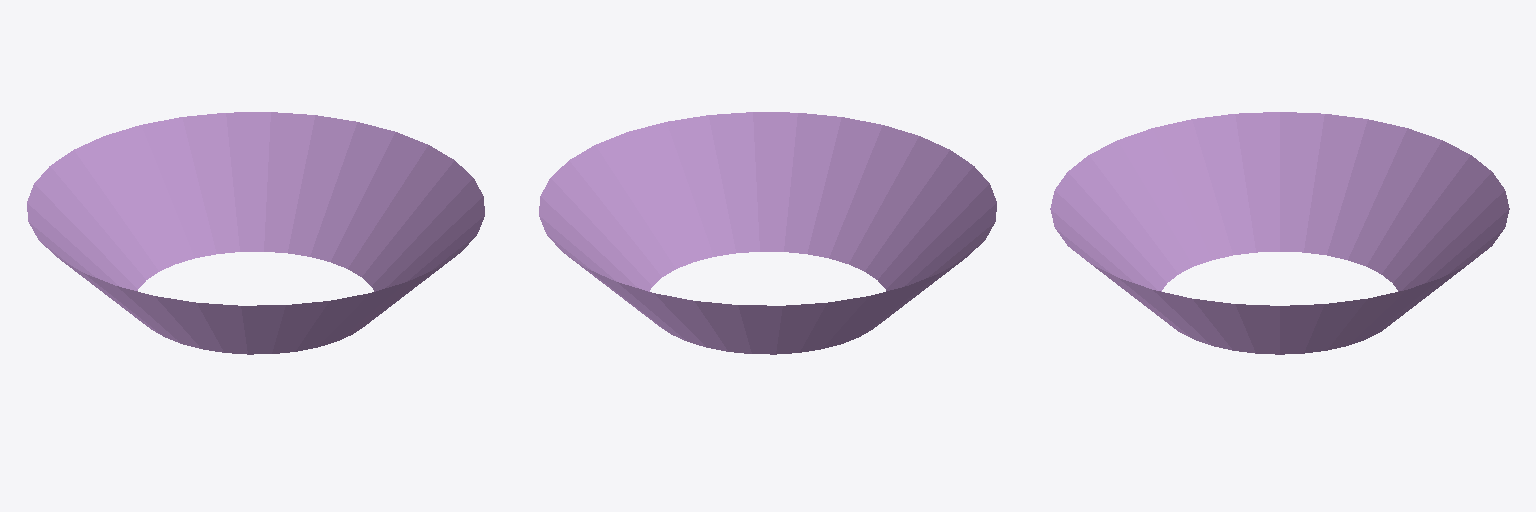
File: coneModified.obj
The picture shows the model from 3 angles: view 1: azimuth 30°, elevation 25°; view 2: azimuth 150°, elevation 25°; view 3: azimuth 270°, elevation 25°; orthographic projection.
Visible parts, largest first — view 1: Circle; view 2: Circle; view 3: Circle.
Part boxes in pixels (bbox=[...]): Circle: bbox=[27, 112, 484, 354]; Circle: bbox=[539, 112, 996, 354]; Circle: bbox=[1050, 112, 1509, 354].
Bounding box in the file's own units: 6.66 × 1.51 × 6.66.